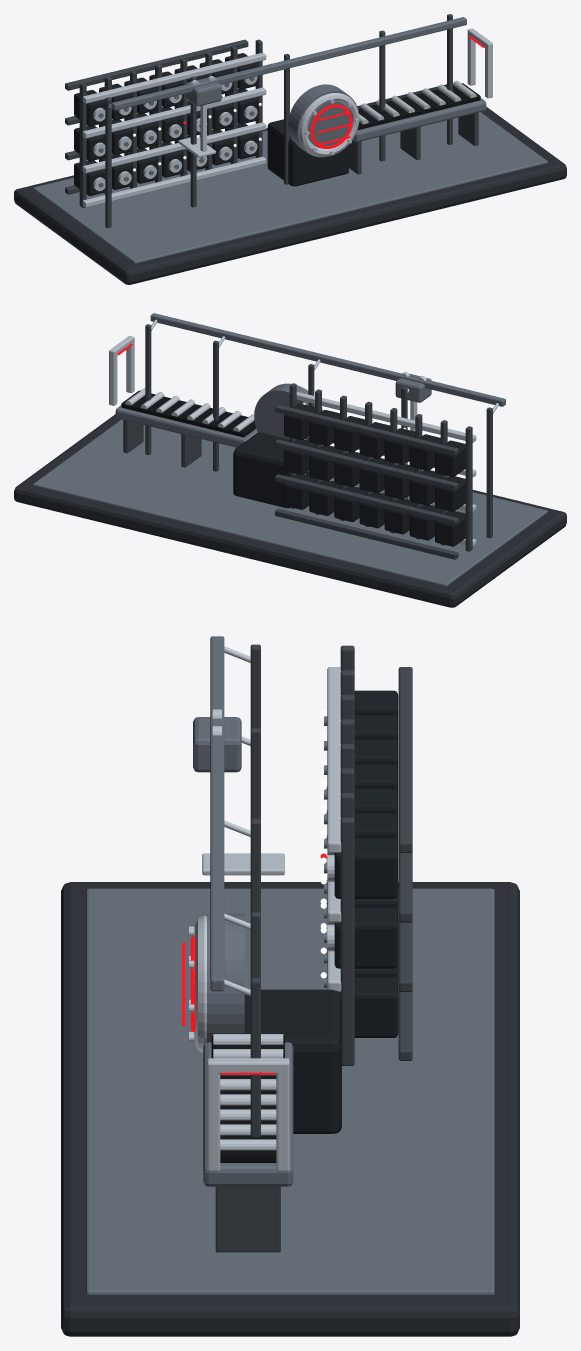
Rendered from distranet-inventory-exchange.glb.
3 renders of one model, top to bottom at view 1: azimuth 30°, elevation 25°; view 2: azimuth 150°, elevation 25°; view 3: azimuth 270°, elevation 25°, orthographic. The views are drawn at different scales.
Parts seen in each view (by area): view 1: Foundation steel inset, Inventory exchange foundation, Overhead exchange rail, Exchange manifold pedestal, Exchange manifold body, Outbound conveyor frame, Outbound conveyor belt, rack_crossbeam_front_04, rack_crossbeam_front_01, rack_crossbeam_back_04, rack_crossbeam_front_03, rack_crossbeam_front_02 (+37 smaller); view 2: Foundation steel inset, Inventory exchange foundation, Exchange manifold pedestal, Overhead exchange rail, Outbound conveyor belt, Outbound conveyor frame, rack_crossbeam_back_03, rack_crossbeam_back_01, rack_crossbeam_back_02, rack_crossbeam_back_04, Exchange manifold body, rack_crossbeam_front_04 (+30 smaller); view 3: Foundation steel inset, Inventory exchange foundation, Exchange manifold pedestal, Overhead exchange rail, conveyor_leg_+4.13, rack_upright_08, Exchange manifold body, Outbound conveyor frame, member_inventory_drawer_14, member_inventory_drawer_21, rack_crossbeam_back_04, member_inventory_drawer_07 (+21 smaller).
Boxes of the visible parts, bbox=[...] form: Foundation steel inset: bbox=[33, 89, 547, 263]; Inventory exchange foundation: bbox=[14, 83, 566, 284]; Overhead exchange rail: bbox=[111, 17, 466, 110]; Exchange manifold pedestal: bbox=[267, 119, 348, 186]; Exchange manifold body: bbox=[288, 84, 358, 157]; Outbound conveyor frame: bbox=[352, 98, 486, 141]; Outbound conveyor belt: bbox=[357, 83, 480, 129]; rack_crossbeam_front_04: bbox=[82, 52, 266, 103]; rack_crossbeam_front_01: bbox=[82, 156, 266, 207]; rack_crossbeam_back_04: bbox=[65, 39, 248, 90]; rack_crossbeam_front_03: bbox=[82, 87, 266, 138]; rack_crossbeam_front_02: bbox=[82, 122, 266, 173]; Foundation steel inset: bbox=[33, 419, 547, 586]; Inventory exchange foundation: bbox=[14, 414, 566, 607]; Exchange manifold pedestal: bbox=[233, 432, 309, 508]; Overhead exchange rail: bbox=[150, 313, 505, 406]; Outbound conveyor belt: bbox=[121, 390, 256, 437]; Outbound conveyor frame: bbox=[115, 405, 257, 447]; rack_crossbeam_back_03: bbox=[275, 439, 458, 490]; rack_crossbeam_back_01: bbox=[275, 508, 458, 559]; rack_crossbeam_back_02: bbox=[275, 474, 458, 525]; rack_crossbeam_back_04: bbox=[275, 404, 458, 455]; Exchange manifold body: bbox=[254, 383, 322, 440]; rack_crossbeam_front_04: bbox=[296, 392, 476, 442]; Foundation steel inset: bbox=[86, 888, 494, 1295]; Inventory exchange foundation: bbox=[61, 882, 519, 1336]; Exchange manifold pedestal: bbox=[244, 989, 341, 1133]; Overhead exchange rail: bbox=[210, 636, 224, 991]; conveyor_leg_+4.13: bbox=[215, 1186, 280, 1252]; rack_upright_08: bbox=[340, 817, 354, 1065]; Exchange manifold body: bbox=[207, 913, 244, 1042]; Outbound conveyor frame: bbox=[203, 1042, 293, 1186]; member_inventory_drawer_14: bbox=[334, 907, 398, 968]; member_inventory_drawer_21: bbox=[334, 838, 398, 898]; rack_crossbeam_back_04: bbox=[398, 667, 412, 852]; member_inventory_drawer_07: bbox=[338, 977, 398, 1037].
Bounding box in the file's own units: 10.9 × 3.58 × 4.9.
